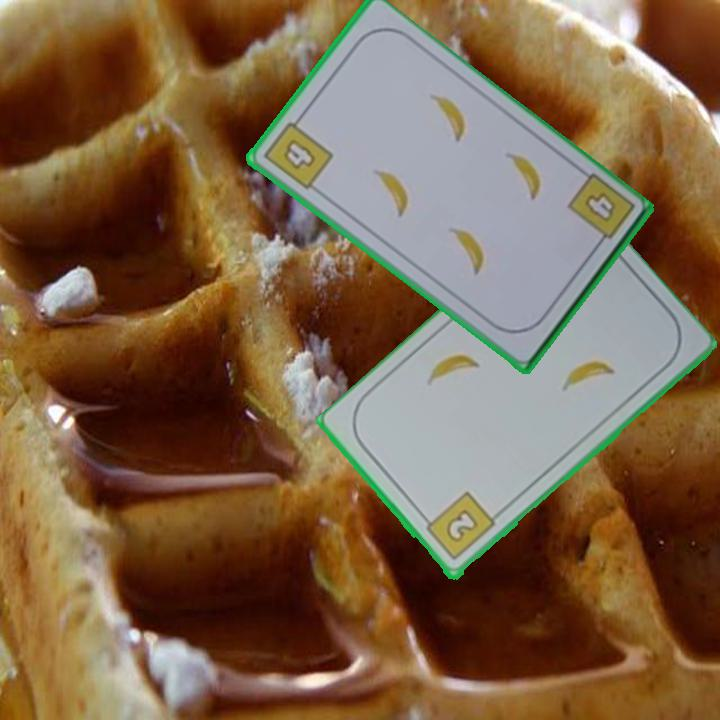2b: (418, 489, 498, 564)
4b: (260, 112, 337, 194), (564, 170, 638, 252)
